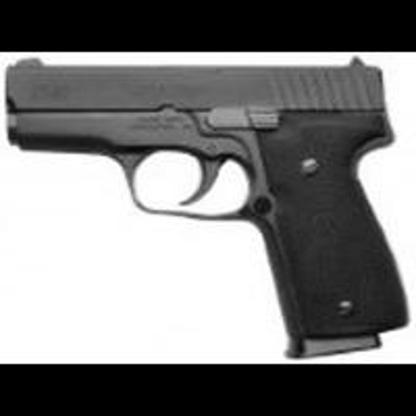weapon: (4, 54, 410, 357)
